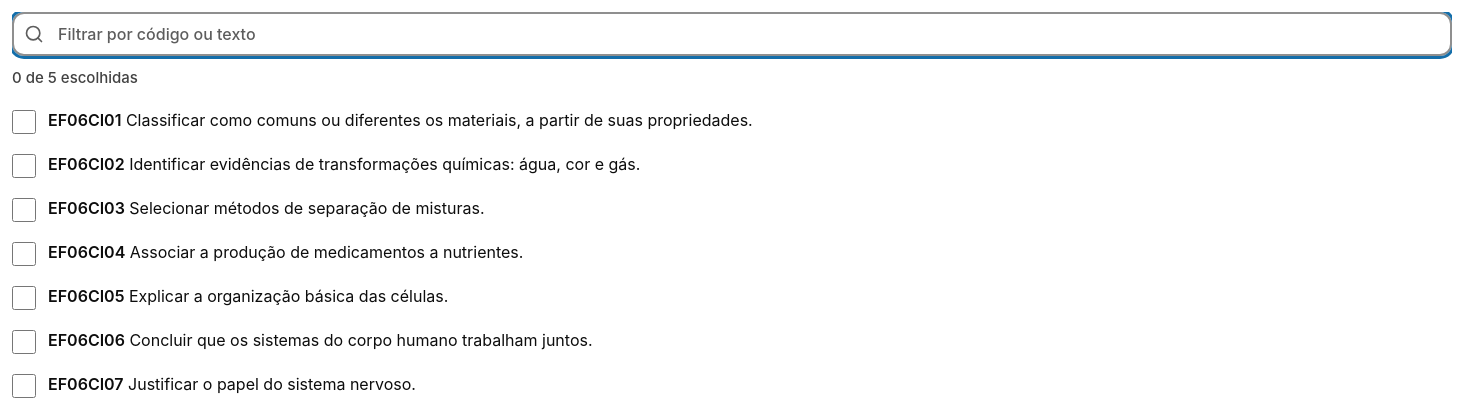
a lista e o teto › de 0 a 5: com cinco escolhidas, a sexta caixa fica bloqueada e o contador diz como seguir; tirar uma a libera
Click the 1st checkbox: x=24, y=122 [12, 110, 36, 134]
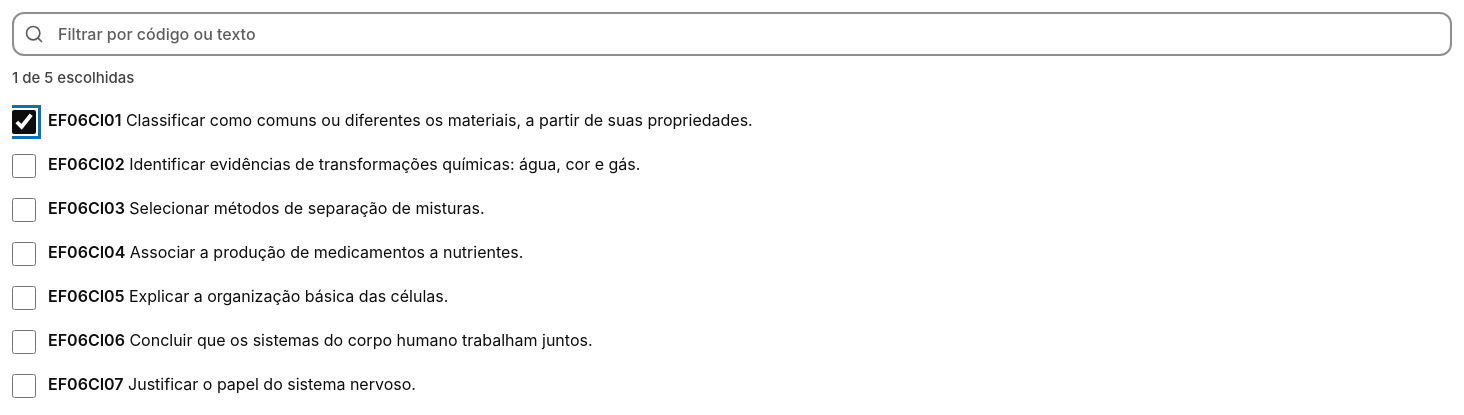
Click the 2nd checkbox: x=24, y=166 [12, 154, 36, 178]
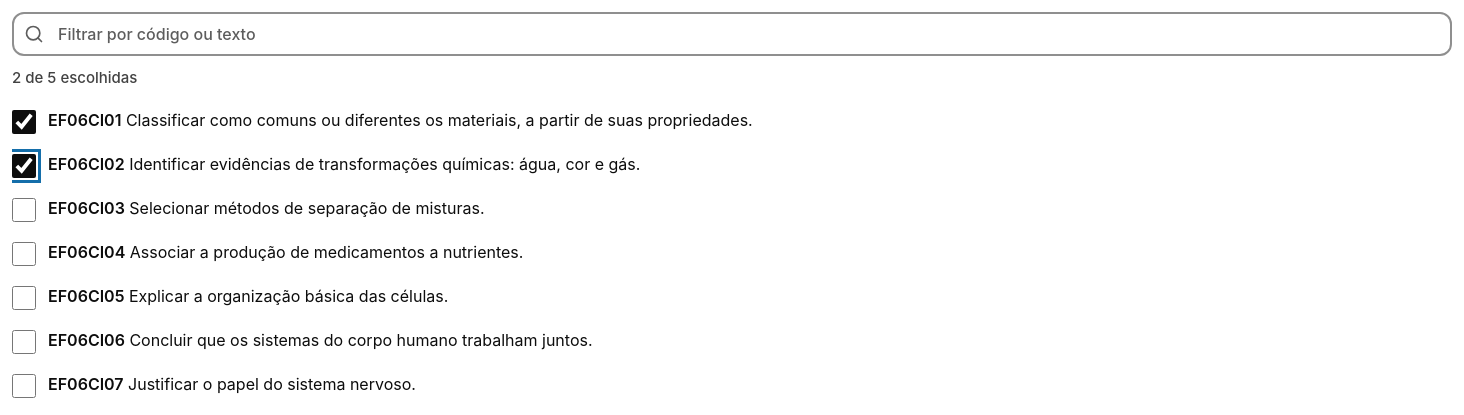
Click the checkbox labelled "EF06CI03 Selecionar métodos de separação de misturas.": x=24, y=210 [12, 198, 36, 222]
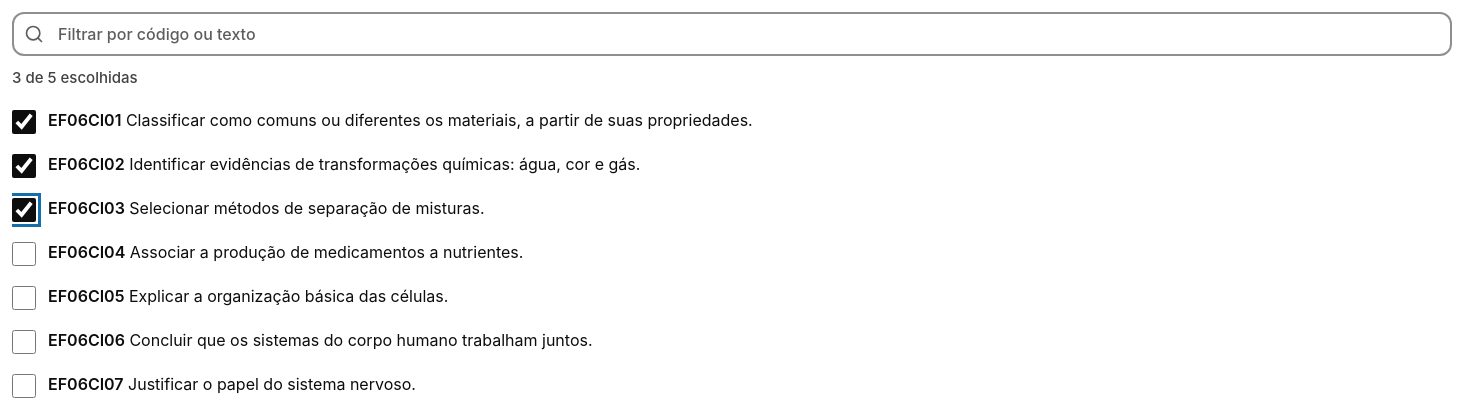
Click the checkbox labelled "EF06CI04 Associar a produção de medicamentos a nutrientes.": x=24, y=254 [12, 242, 36, 266]
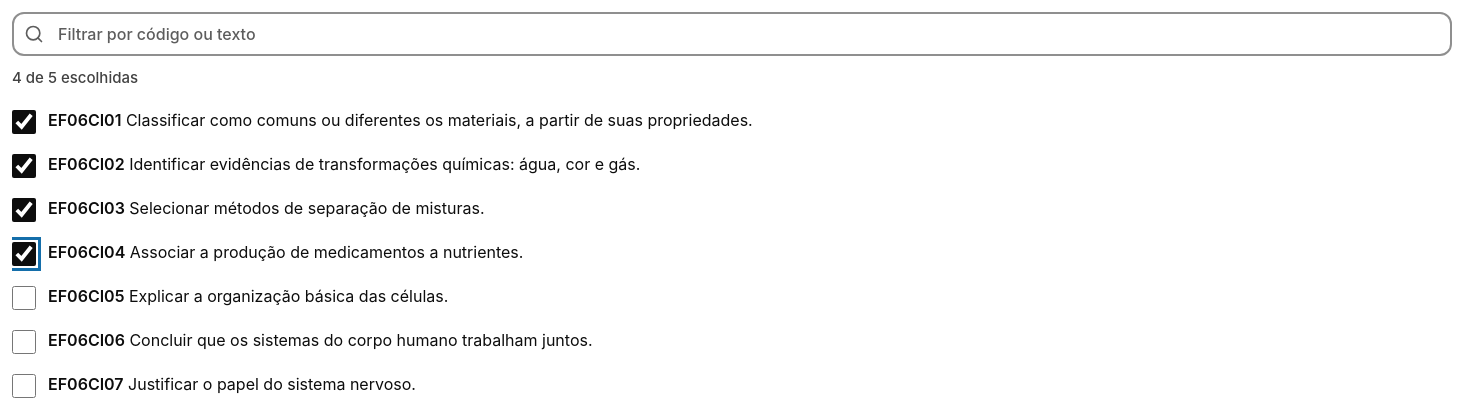
Click the checkbox labelled "EF06CI05 Explicar a organização básica das células.": x=24, y=298 [12, 286, 36, 310]
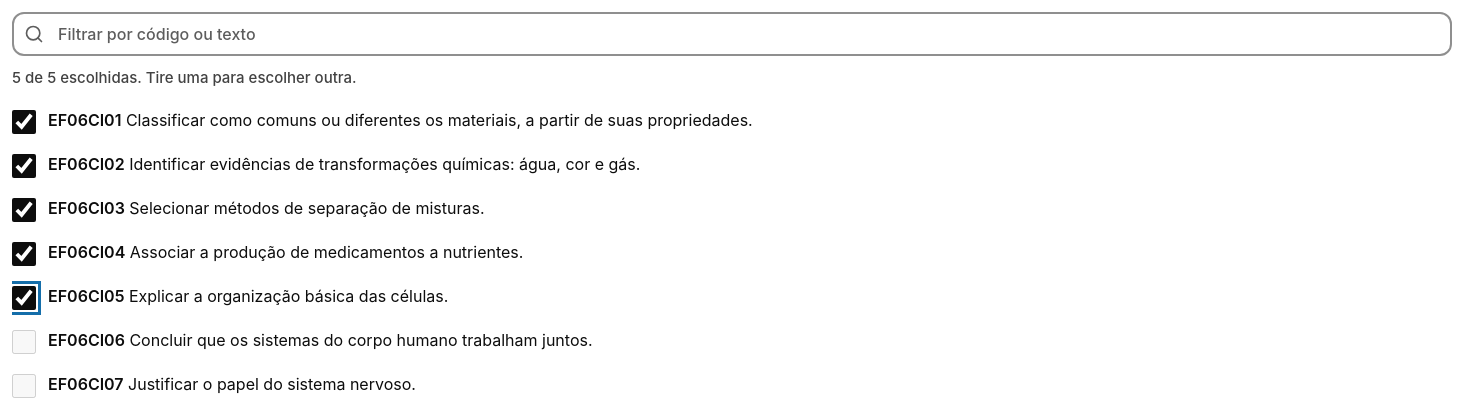
Expected: the message reads "5 de 5 escolhidas. Tire uma para escolher outra.", [12, 68, 357, 87]
Click the 1st checkbox: x=24, y=122 [12, 110, 36, 134]
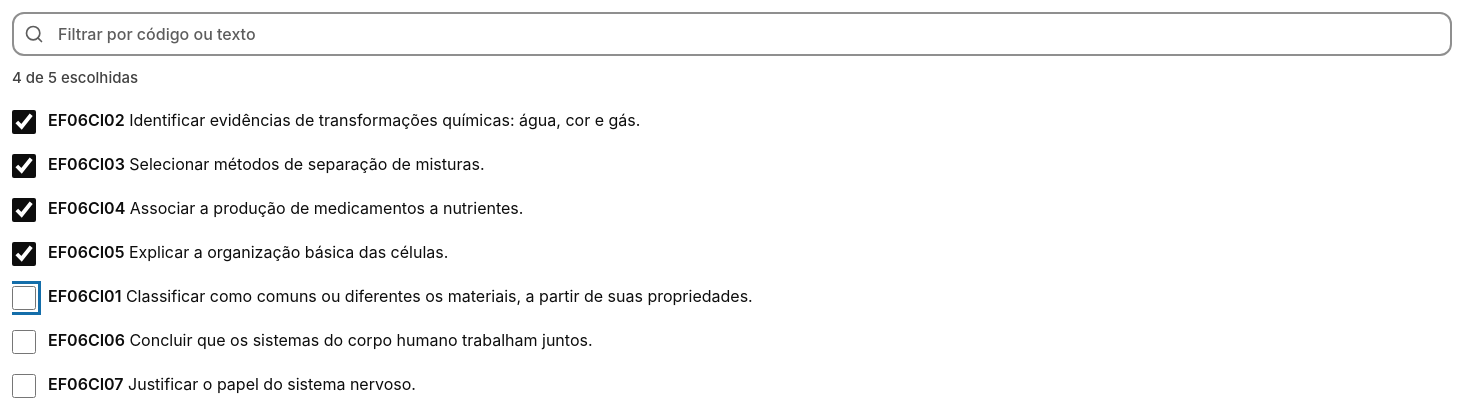
Expected: the message reads "4 de 5 escolhidas", [12, 68, 138, 87]
